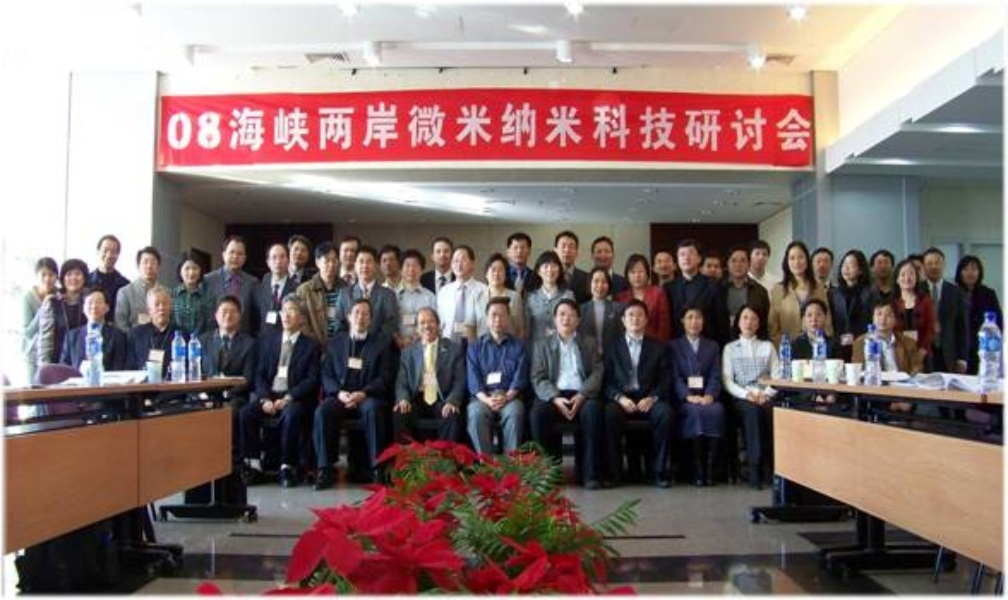text: (177, 102, 192, 153), (193, 102, 208, 153), (209, 102, 224, 153), (225, 102, 240, 153), (241, 102, 256, 153), (257, 102, 272, 153), (273, 102, 288, 153), (289, 102, 304, 153), (305, 102, 320, 153), (321, 102, 336, 153), (337, 102, 352, 153), (353, 102, 368, 153), (369, 102, 384, 153), (385, 102, 400, 153), (401, 102, 416, 153), (417, 102, 432, 153), (433, 102, 448, 153), (449, 102, 464, 153), (465, 102, 480, 153), (481, 102, 496, 153), (497, 102, 512, 153), (513, 102, 528, 153), (529, 102, 544, 153), (545, 102, 560, 153), (561, 102, 576, 153), (577, 102, 592, 153), (593, 102, 608, 153), (609, 102, 624, 153), (625, 102, 640, 153), (641, 102, 656, 153), (657, 102, 672, 153), (673, 102, 688, 153), (689, 102, 704, 153), (705, 102, 720, 153), (721, 102, 736, 153), (737, 102, 752, 153), (753, 102, 768, 153), (769, 102, 784, 153), (785, 102, 800, 153), (801, 102, 811, 153), (167, 102, 176, 153)
